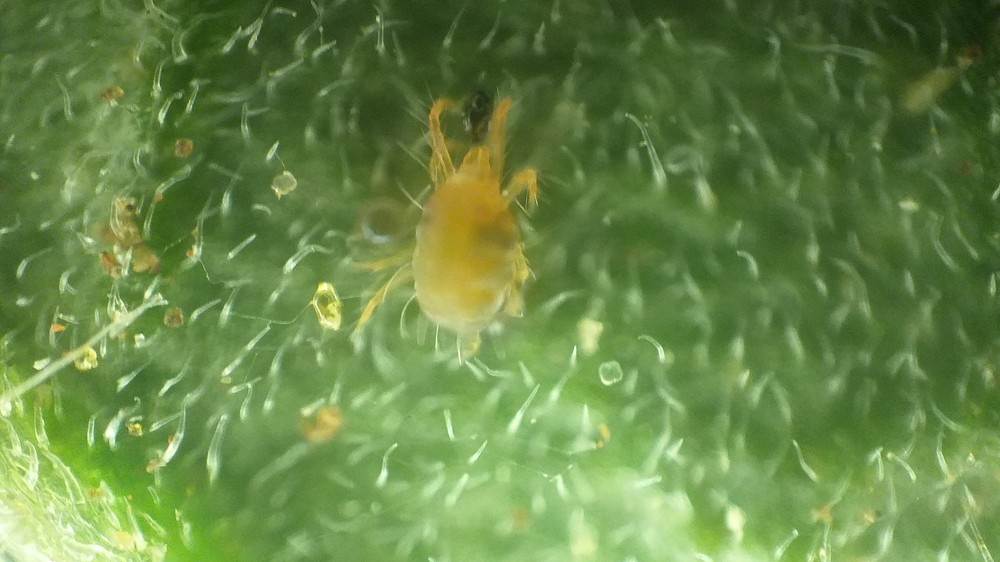Aracnido Rojo: (331, 74, 612, 419)
